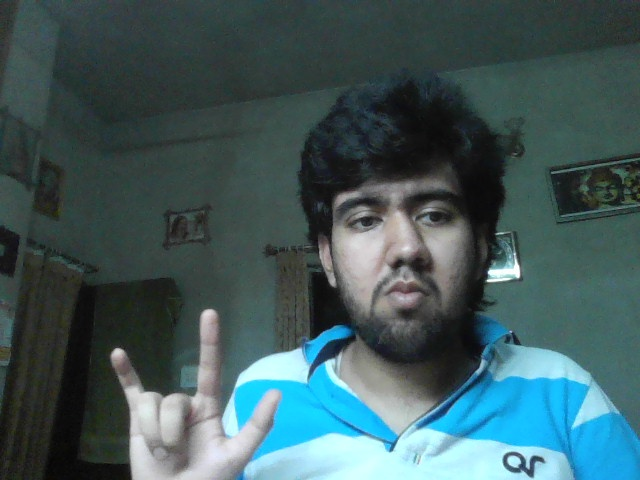ILoveYou: (110, 309, 281, 480)
